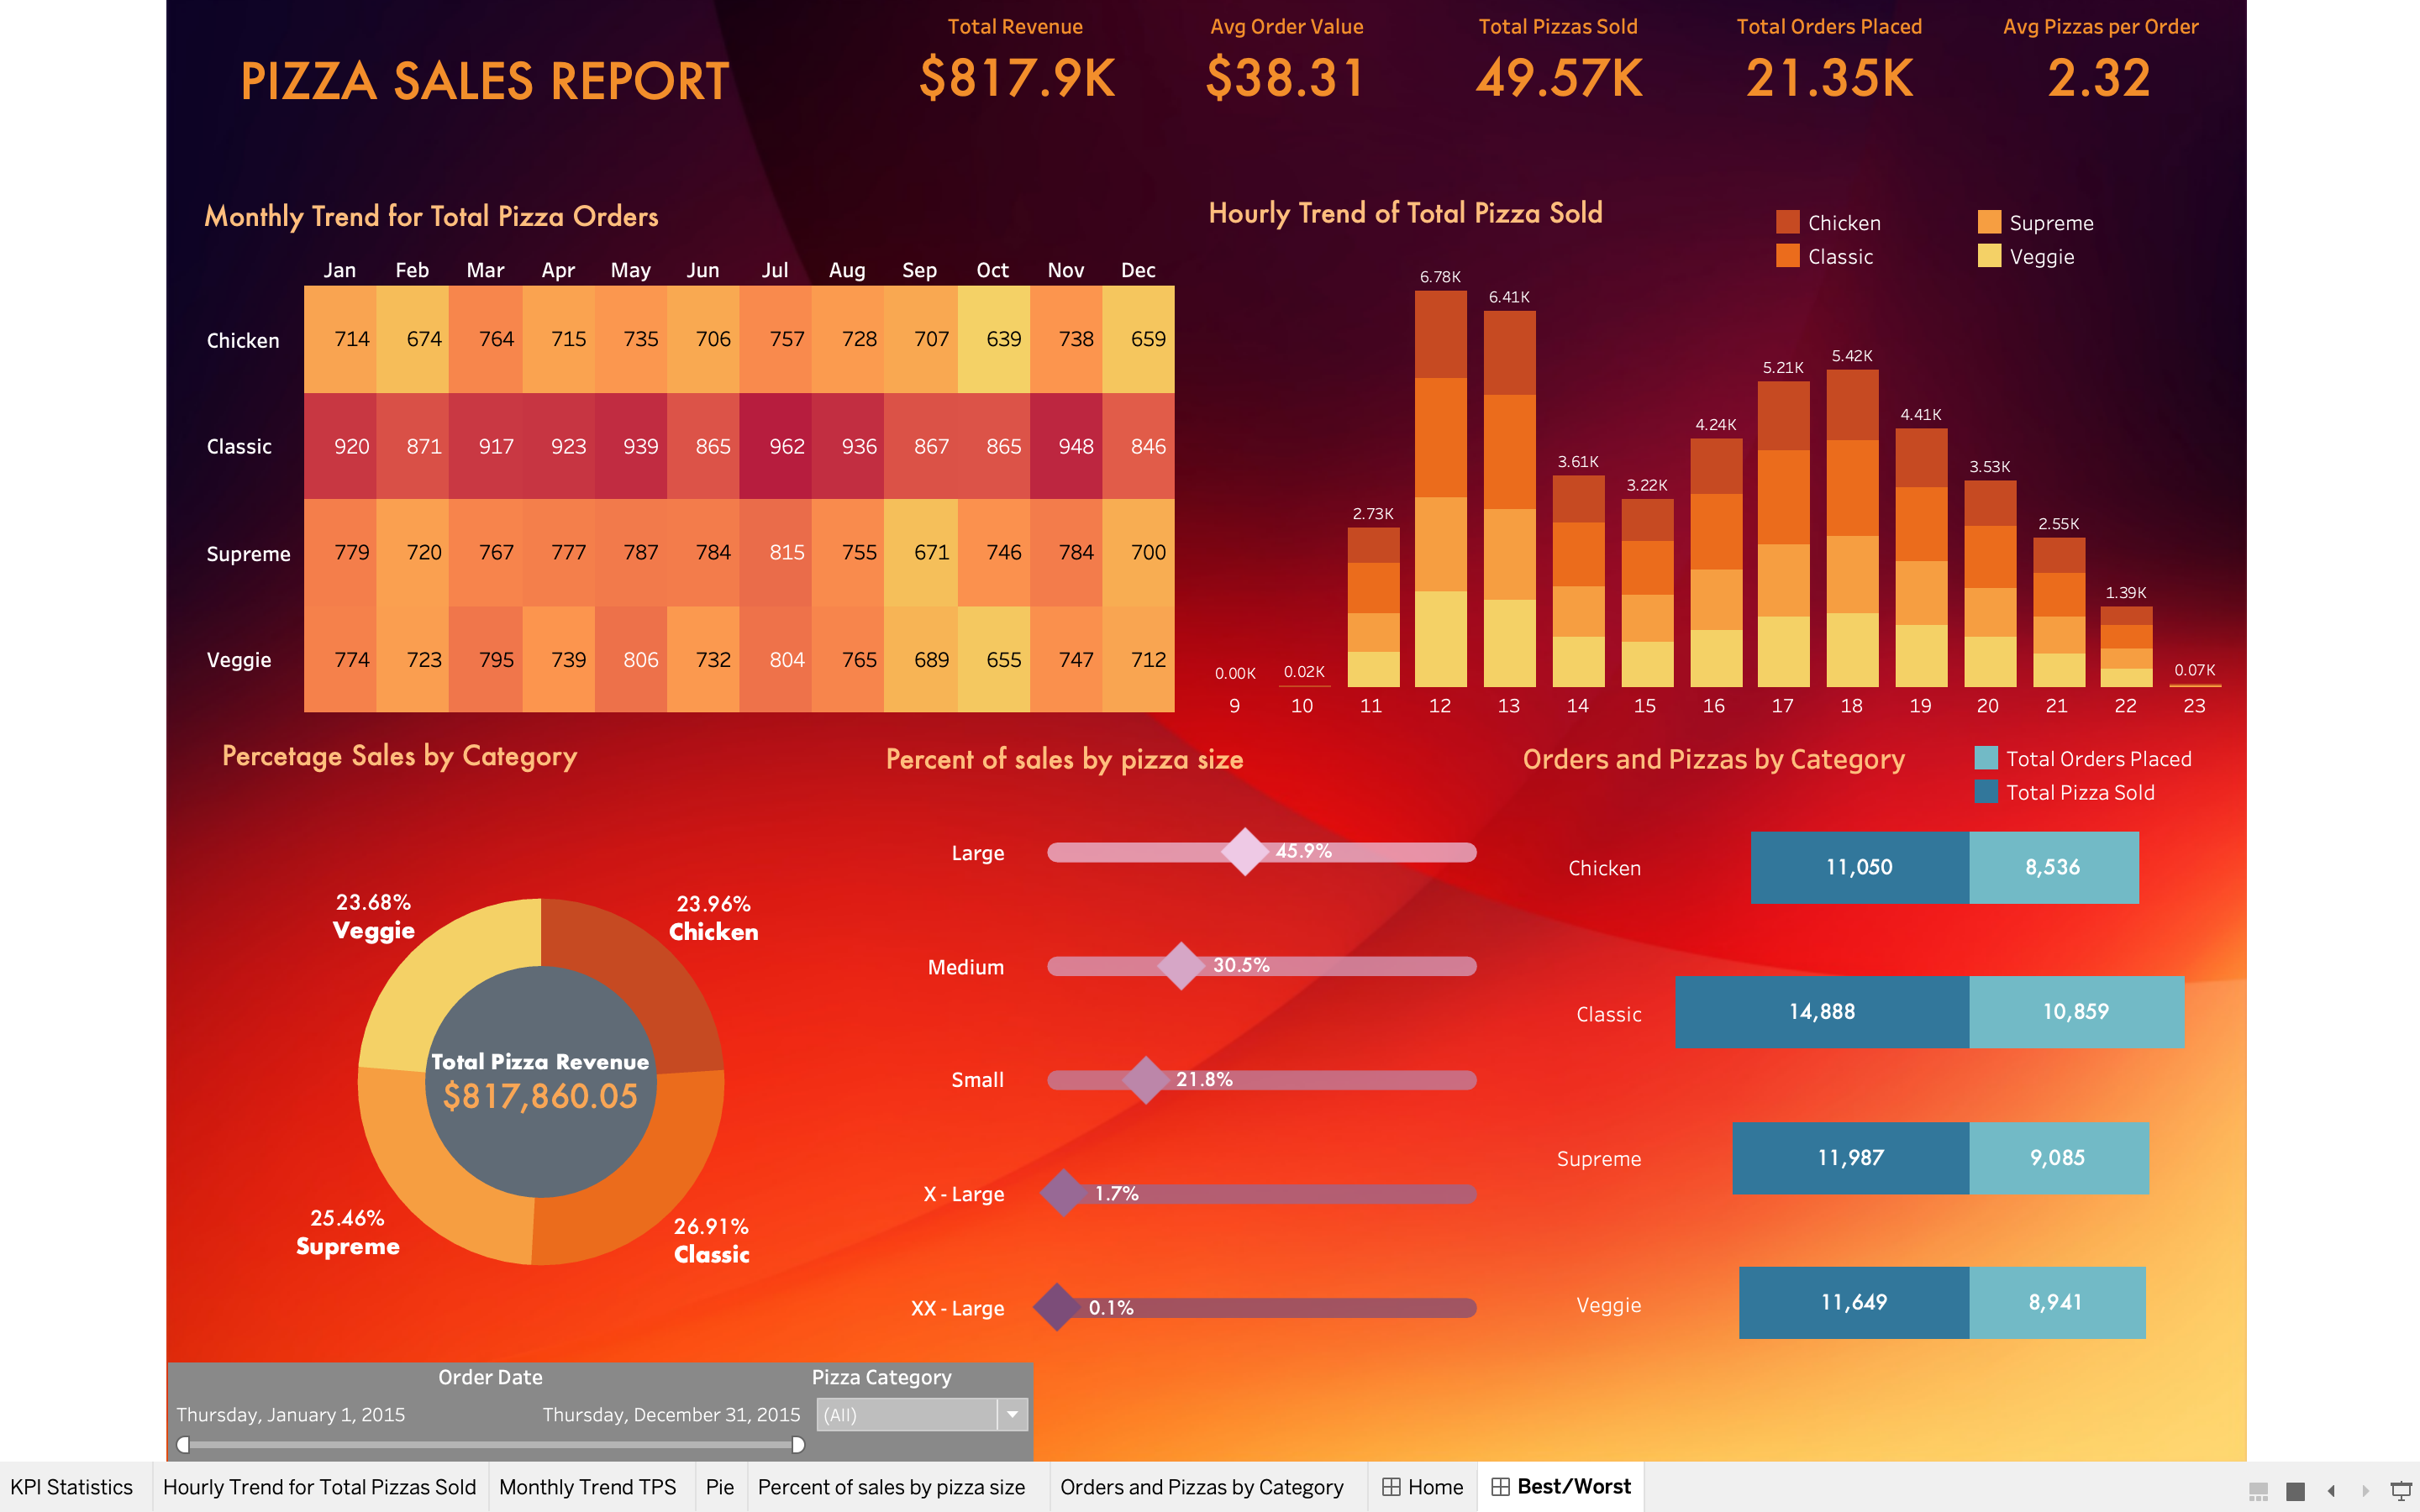

The page's visual inventory and layout, read from the dashboard file:
{"tool":"tableau","page":{"name":"Best/Worst","canvas":[1000,1000],"units":"permille","ordinal":0},"visuals":[{"type":"worksheet","title":"KPI Statistics","mark":"Automatic","box":[364.1,6.2,560.3,90.4]},{"type":"text","box":[68.6,21,263.2,68.1]},{"type":"worksheet","title":"Hourly Trend for Total Pizzas Sold","mark":"Bar","rows":["Calculation_6440780846981779459","Calculation_6440780846981779459"],"cols":["order_time"],"box":[496.4,128.7,424.7,365.1]},{"type":"worksheet","title":"Monthly Trend TPS","mark":"Square","rows":["pizza_category"],"cols":["order_date"],"box":[81.2,131.2,404.3,357.7]},{"type":"legend","title":"Hourly Trend for Total Pizzas Sold","param":"[federated.0gz2sb40qgswo8188fcp81ssjpiv].[none:pizza_category:nk]","box":[732.1,139.8,154.5,85.4]},{"type":"worksheet","title":"Pie","mark":"Pie","rows":["Calculation_6440780847277641735","Calculation_6440780847277690889"],"box":[89,500,269.5,439.4]},{"type":"worksheet","title":"Orders and Pizzas by Category","mark":"Automatic","rows":["pizza_category"],"box":[626.5,501.2,286.8,440.6]},{"type":"worksheet","title":"Percent of sales by pizza size","mark":"Line","rows":["pizza_size"],"box":[363.3,502.5,255.3,430.7]},{"type":"legend","title":"Orders and Pizzas by Category","param":"[federated.0gz2sb40qgswo8188fcp81ssjpiv].[:Measure Names]","box":[814,507.4,110.3,58.2]},{"type":"filter","title":"Hourly Trend for Total Pizzas Sold","param":"[federated.0gz2sb40qgswo8188fcp81ssjpiv].[none:order_date:qk]","box":[69.4,931.9,266.4,69.3]},{"type":"filter","title":"Hourly Trend for Total Pizzas Sold","param":"[federated.0gz2sb40qgswo8188fcp81ssjpiv].[none:pizza_category:nk]","box":[335.7,931.9,91.4,70.5]}]}

Visuals, with their boxes on the dashboard's canvas, which has no fixed pixel size, in thousandths of its width and height (x1, y1, x2, y2). These are canvas units, not pixel positions in the 2420x1512 screenshot, which may show the page scaled, cropped or inside an application window:
"KPI Statistics" worksheet: box(364, 6, 924, 97)
text: box(69, 21, 332, 89)
"Hourly Trend for Total Pizzas Sold" worksheet (Bar marks): box(496, 129, 921, 494)
"Monthly Trend TPS" worksheet (Square marks): box(81, 131, 486, 489)
"Hourly Trend for Total Pizzas Sold" legend: box(732, 140, 887, 225)
"Pie" worksheet (Pie marks): box(89, 500, 358, 939)
"Orders and Pizzas by Category" worksheet: box(626, 501, 913, 942)
"Percent of sales by pizza size" worksheet (Line marks): box(363, 502, 619, 933)
"Orders and Pizzas by Category" legend: box(814, 507, 924, 566)
"Hourly Trend for Total Pizzas Sold" filter: box(69, 932, 336, 1001)
"Hourly Trend for Total Pizzas Sold" filter: box(336, 932, 427, 1002)
